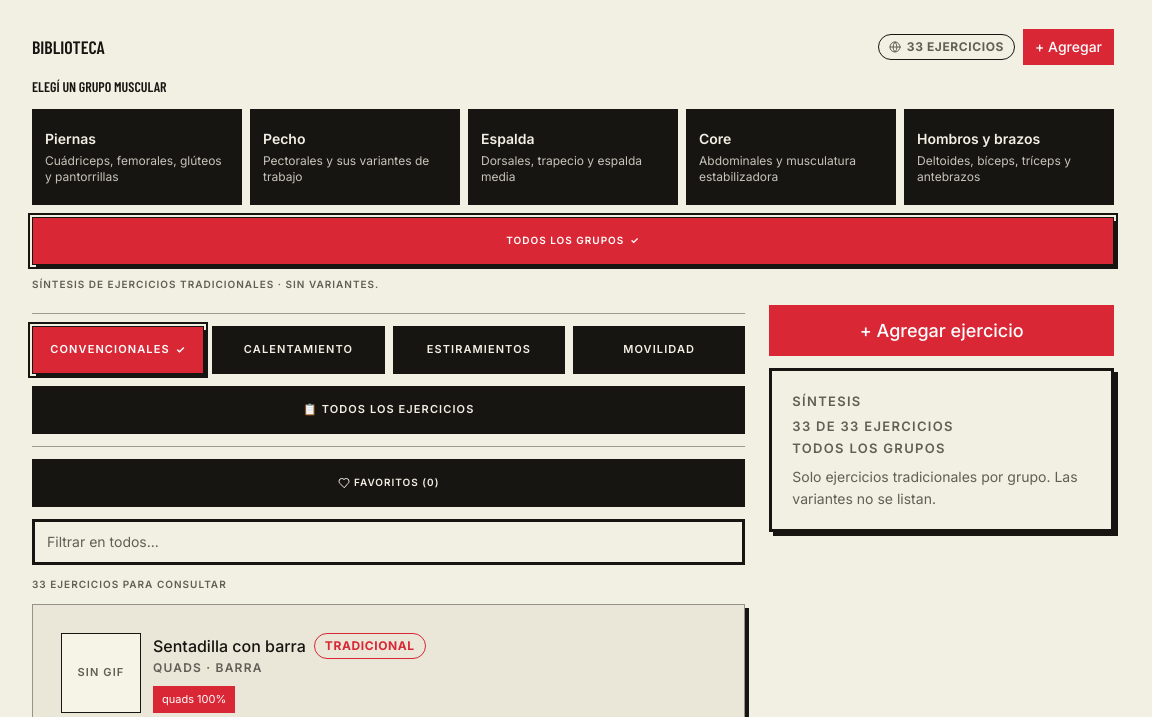
Scenario: Biblioteca — separación por finalidad › cada finalidad muestra solo sus ejercicios y no mezcla categorías
This screenshot has width=1152, height=717.
# Estiramientos: aparecen los de su categoría, no los convencionales.
Step 1. Click the button "Estiramientos" → {"x": 479, "y": 350}, box x1=393 y1=326 x2=565 y2=374
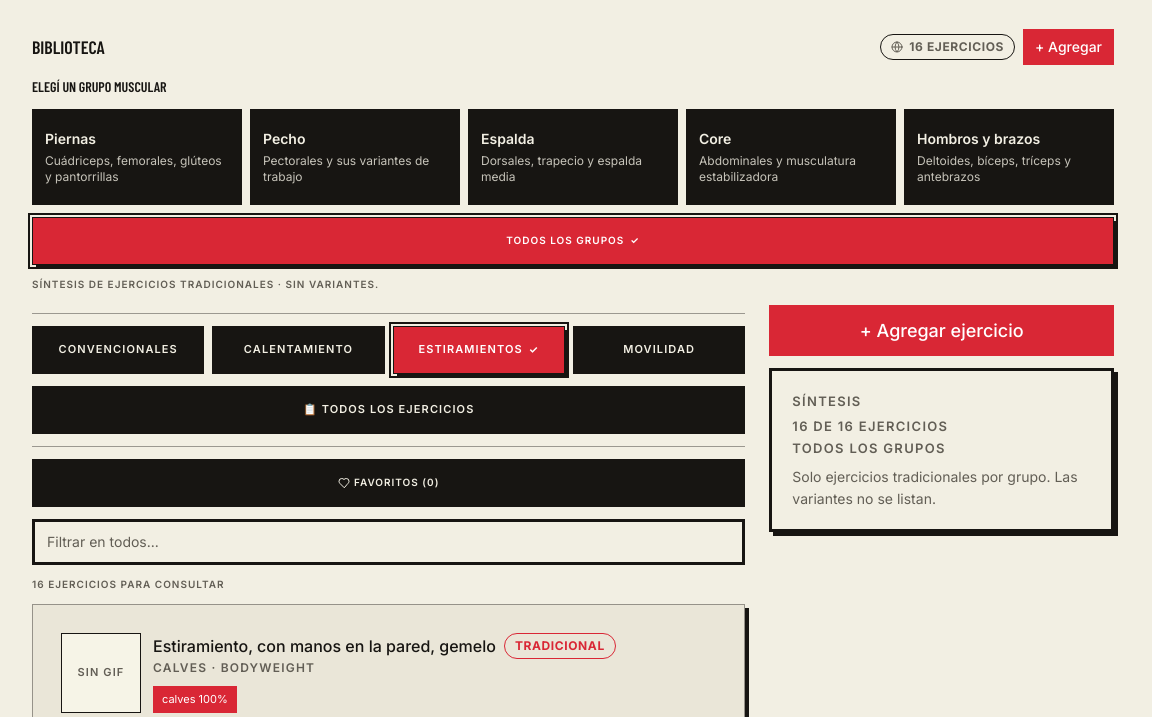
Now the text "Estiramiento, con manos en la pared, gemelo" is shown, box x1=153 y1=634 x2=496 y2=658
# Calentamiento: independiente, solo los de activación.
Step 2. Click the button "Calentamiento" → {"x": 298, "y": 350}, box x1=212 y1=326 x2=385 y2=374
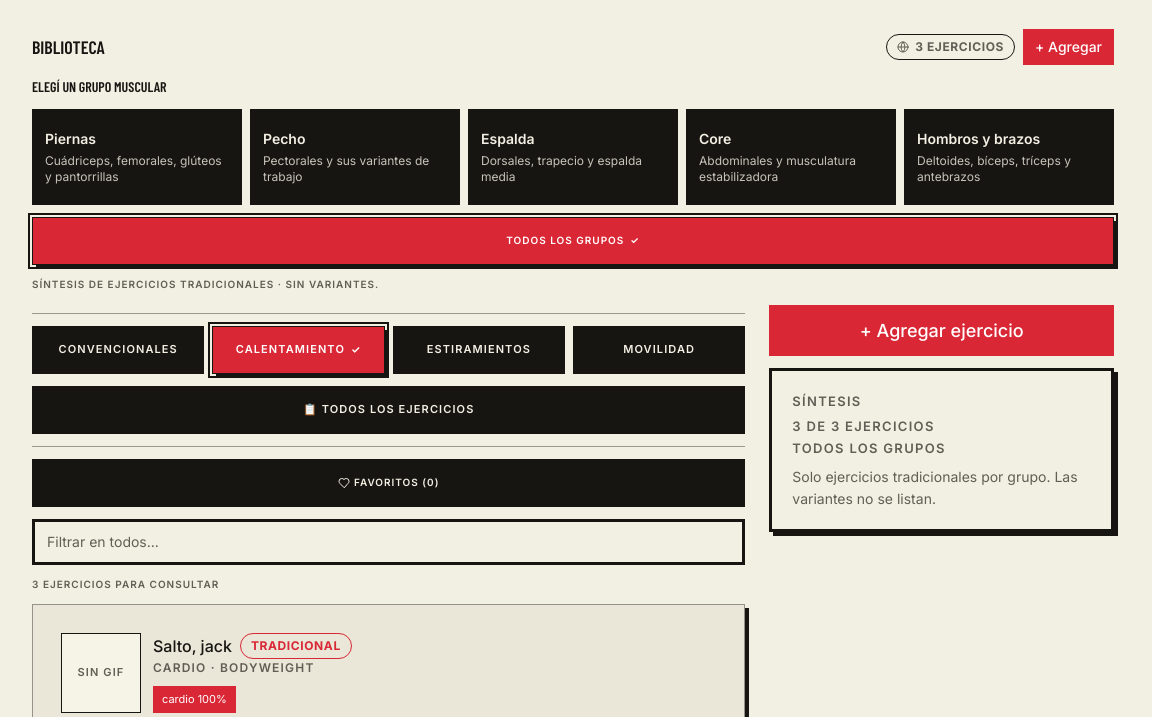
Now the text "Salto, jack" is shown, box x1=153 y1=634 x2=232 y2=658
# Movilidad: solo los de rango articular.
Step 3. Click the button "Movilidad" → {"x": 659, "y": 350}, box x1=573 y1=326 x2=745 y2=374
(page scrolled)
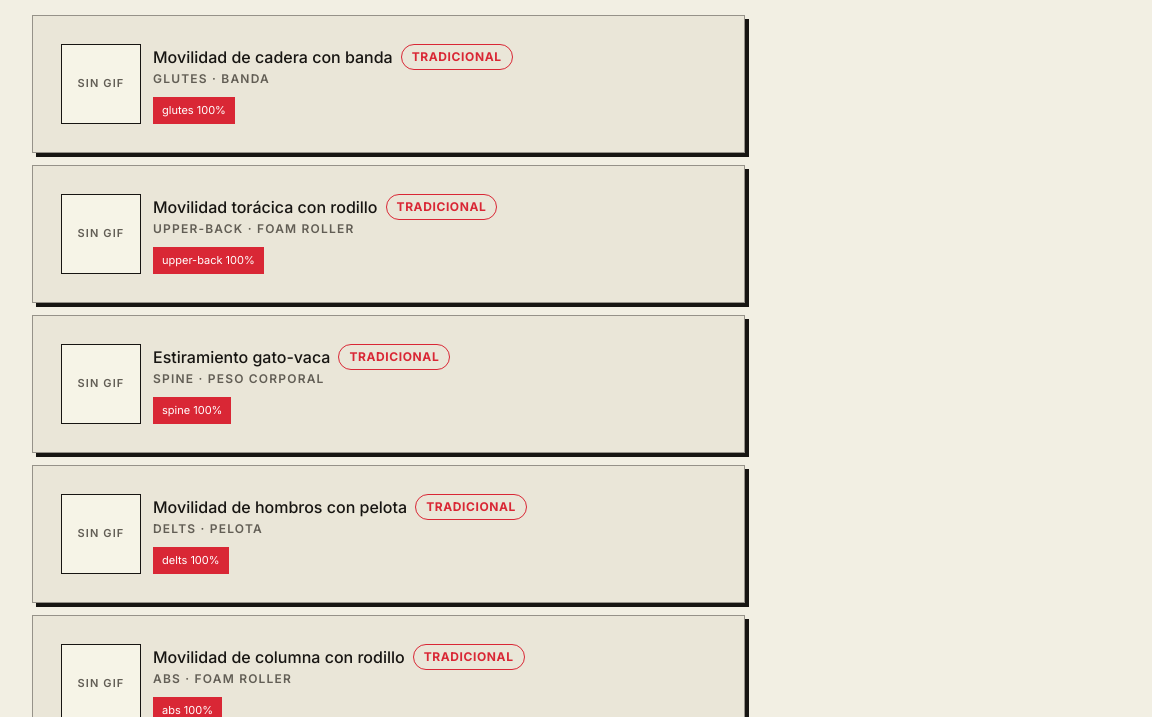
Now the text "Estiramiento gato-vaca" is shown, box x1=153 y1=345 x2=330 y2=369
Now the text "Salto, jack" is gone
